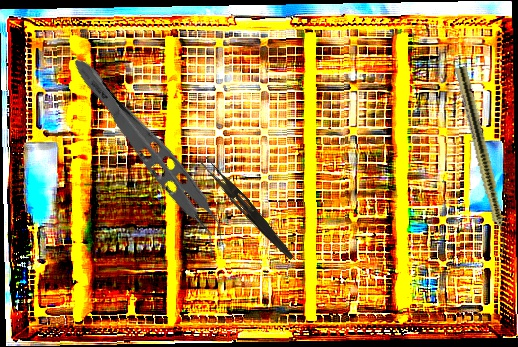Dressing Forceps: (197, 156, 299, 262)
Handpiece: (452, 65, 514, 258)
Tissue Forceps: (55, 52, 240, 256)
